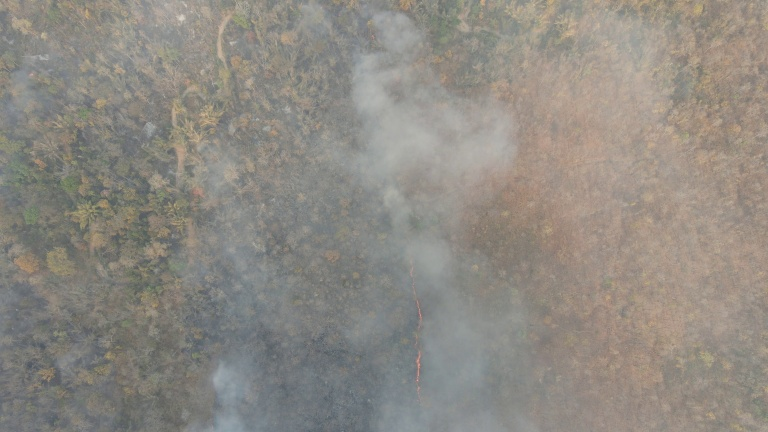fire: (404, 255, 428, 414)
smoke: (343, 31, 513, 217), (396, 239, 537, 429), (209, 362, 253, 429)
